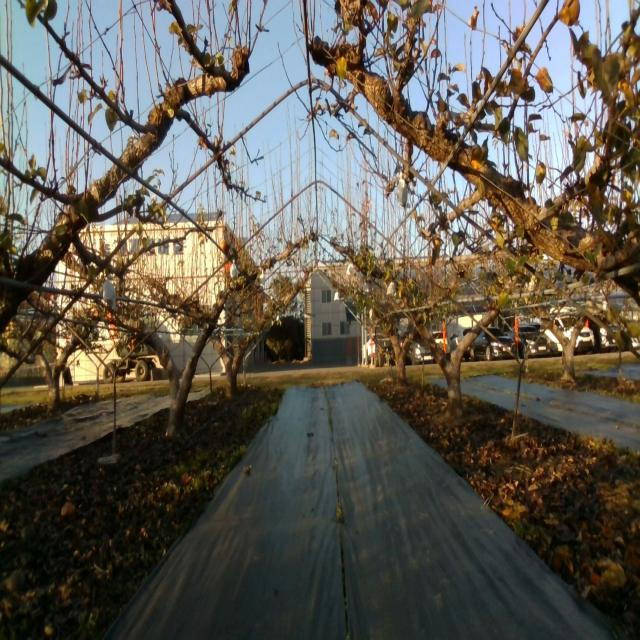pearbags: (102, 274, 116, 312), (396, 172, 407, 211)
